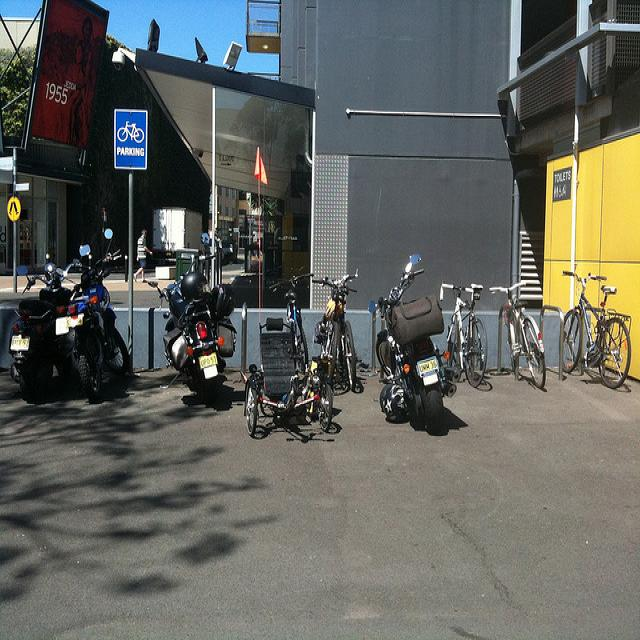motor: (364, 247, 446, 441), (156, 234, 238, 404), (55, 227, 129, 403), (9, 261, 76, 402)
